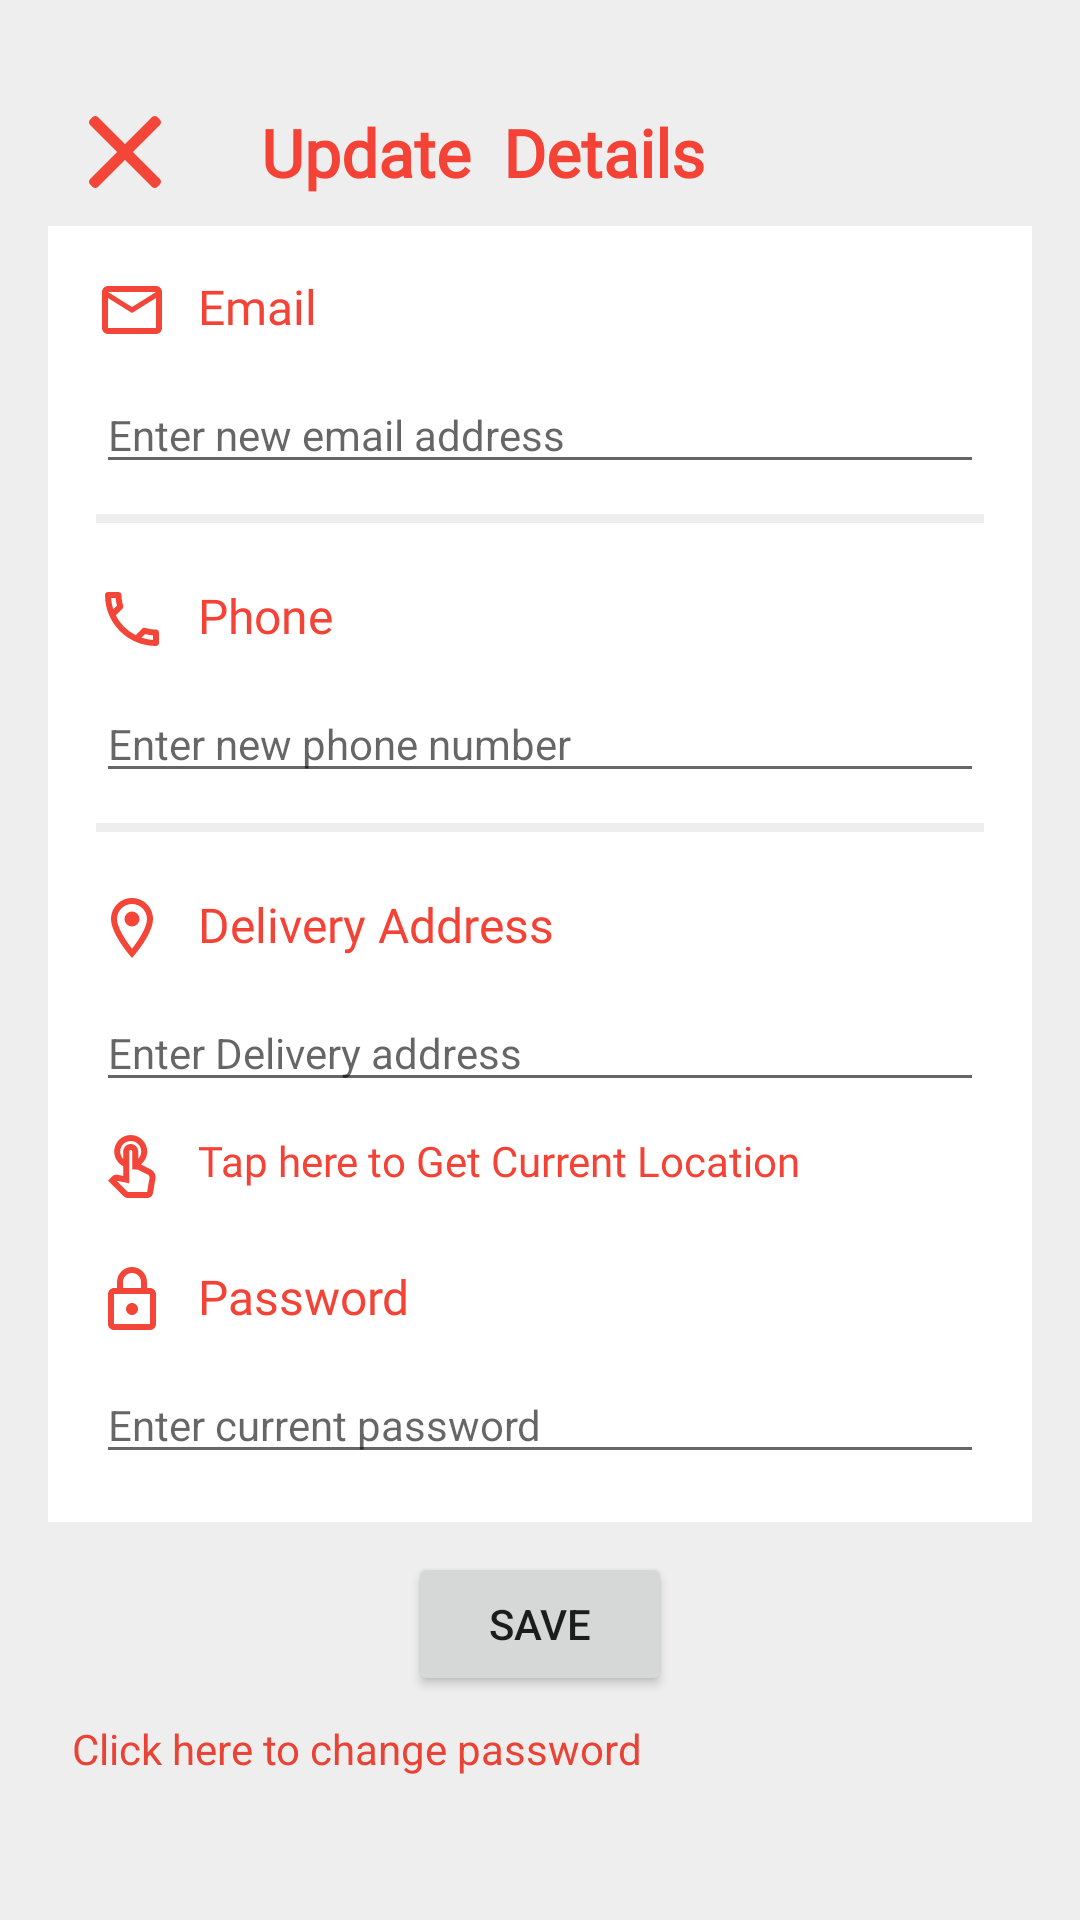

Locate icon controls on the screen. Image size 1080×1920, boxes as (x1,y1,x2,y2).
close: (89,116,161,188)
